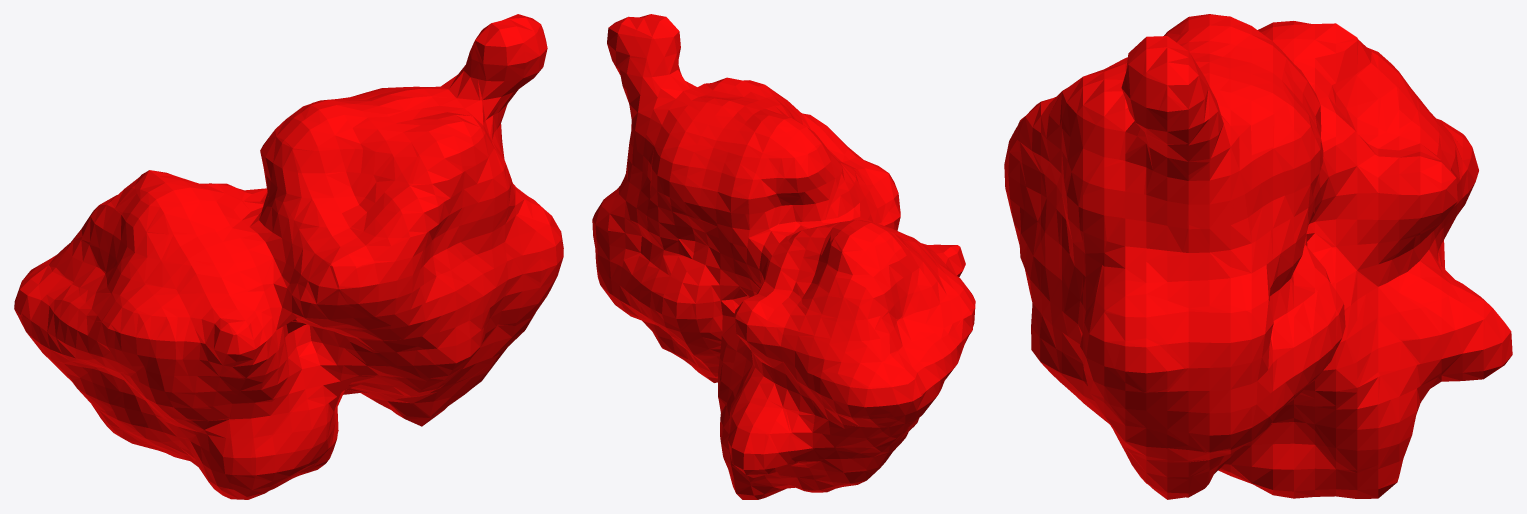
The model's file is dmsD_coarse.dae.
The picture shows the model from 3 angles, left to right: view 1: azimuth 30°, elevation 25°; view 2: azimuth 150°, elevation 25°; view 3: azimuth 270°, elevation 25°; orthographic projection. The views are drawn at different scales.
Visible parts, largest first — view 1: dmsD; view 2: dmsD; view 3: dmsD.
Part boxes in pixels (<box>): dmsD: <box>14,14,563,499</box>; dmsD: <box>592,14,975,499</box>; dmsD: <box>1004,14,1512,499</box>.
Size of the model in its own units: 74.59 by 70.79 by 56.49.
